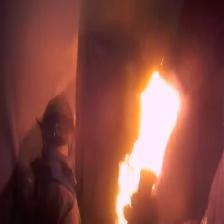fire: (124, 69, 178, 166)
